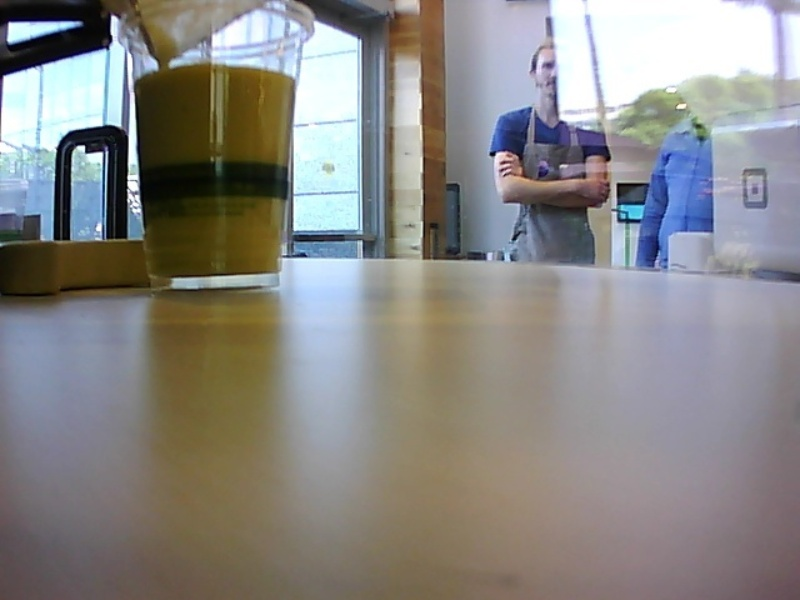cup: (111, 2, 317, 294)
limit: (128, 58, 299, 85)
